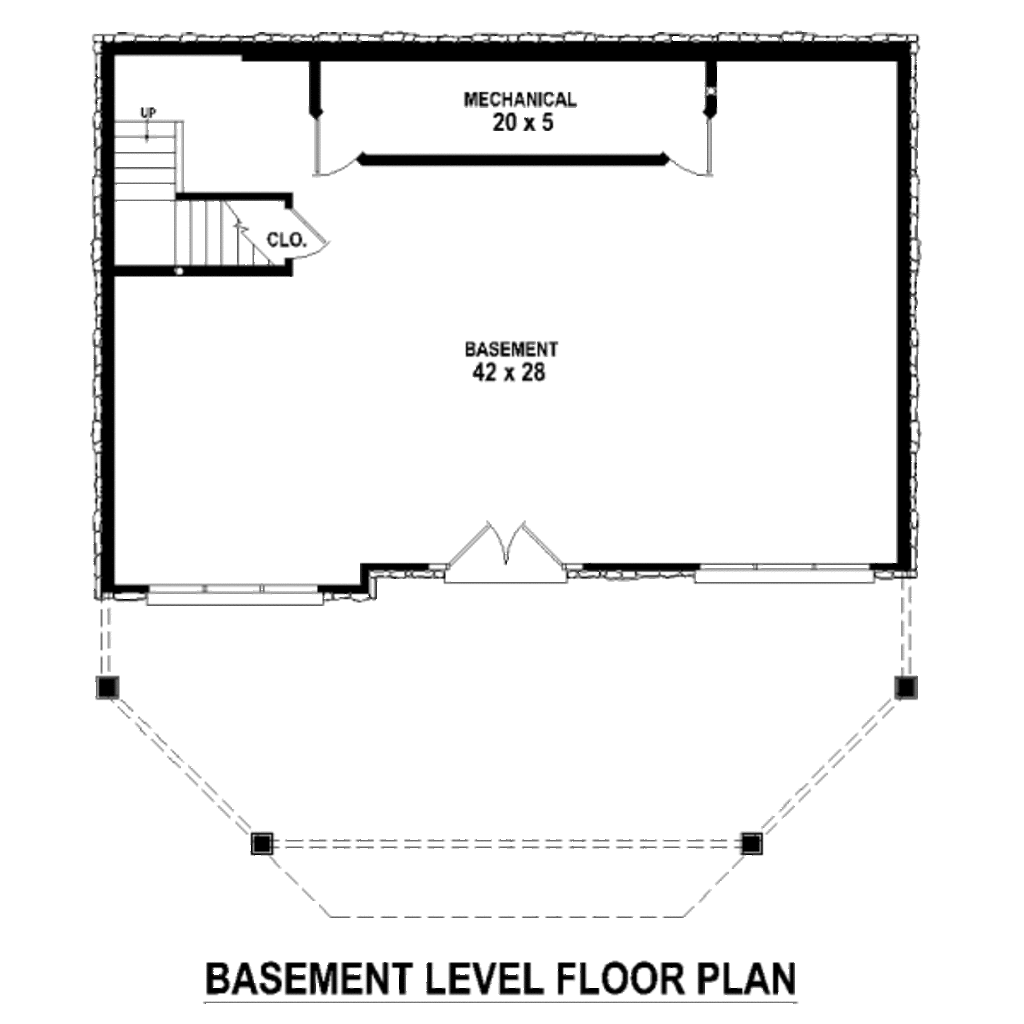door: (433, 510, 578, 582), (659, 103, 723, 185), (306, 108, 366, 180), (288, 203, 334, 263)
stairs: (100, 99, 286, 294)
window: (130, 569, 331, 616), (689, 553, 880, 592)
